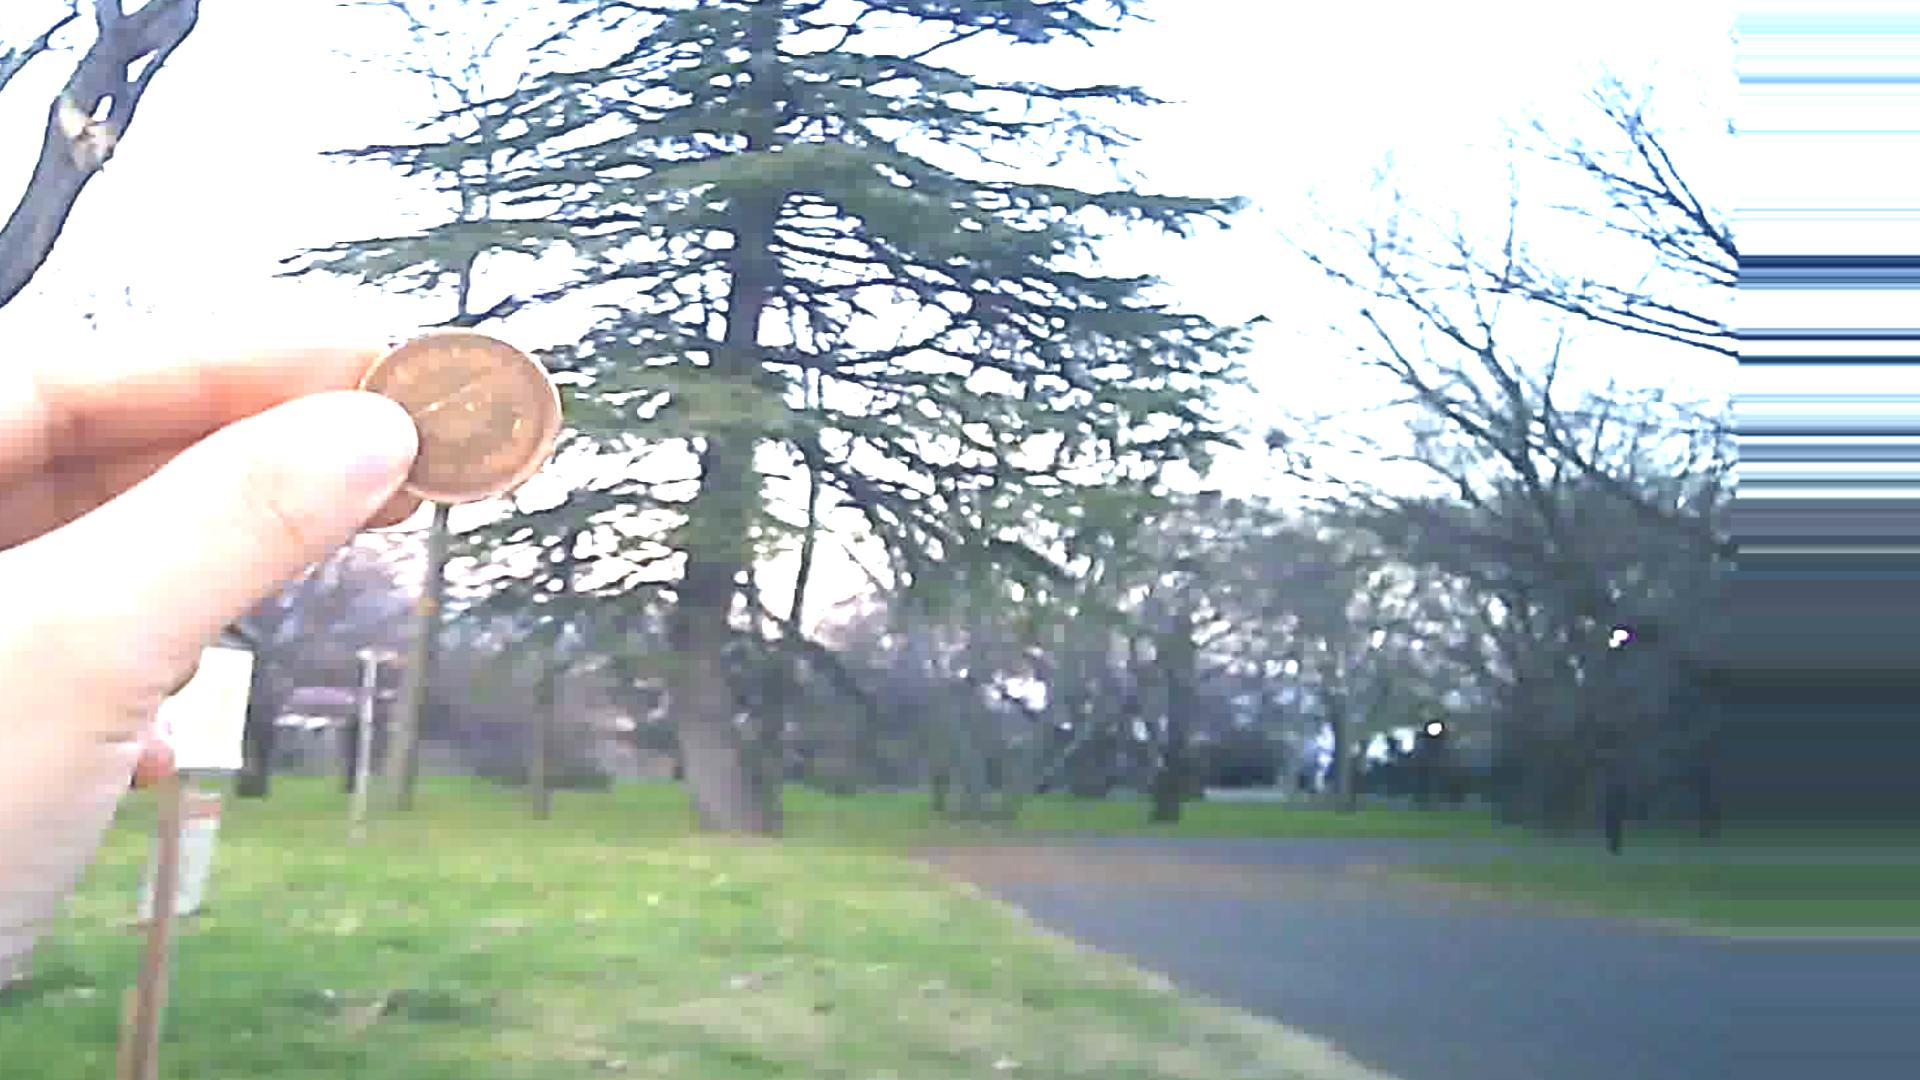10 Yen: (357, 320, 571, 516)
